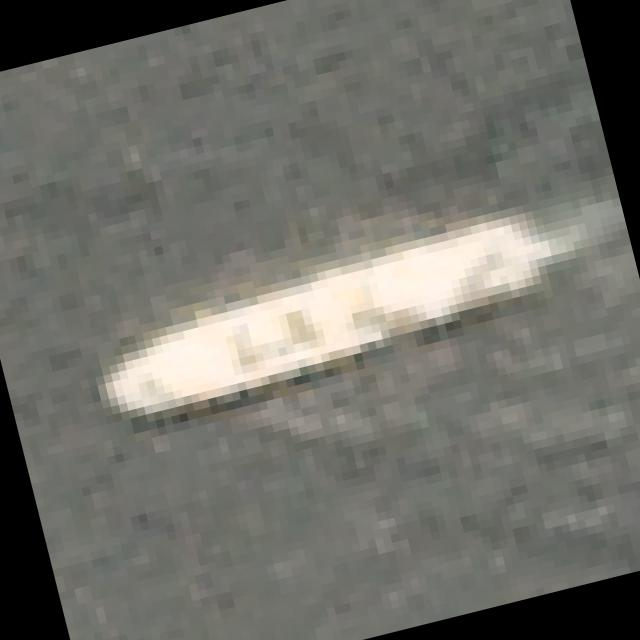ship: (37, 142, 582, 476)
